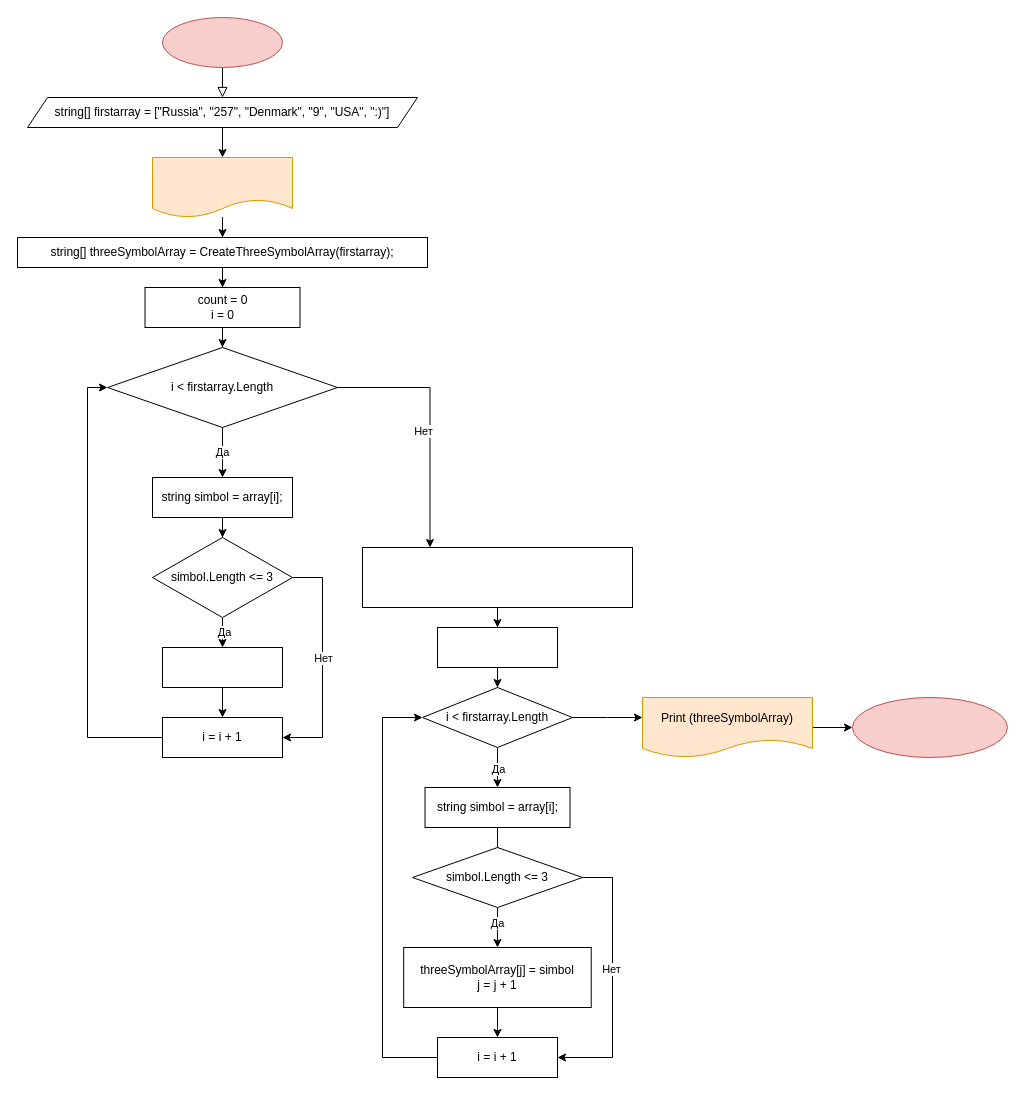
This 1025x1095 diagram has some shape labels left out. Each missing label, with the centre of its shape:
"count = count + 1" goes at (x=222, y=667).
"i = 0 j = 0" goes at (x=497, y=647).
"Print (firstarray)" goes at (x=222, y=187).
"string[] threeSymbolArray = new string[count];" goes at (x=497, y=577).
"Старт" goes at (x=222, y=42).
"Финиш" goes at (x=930, y=727).
